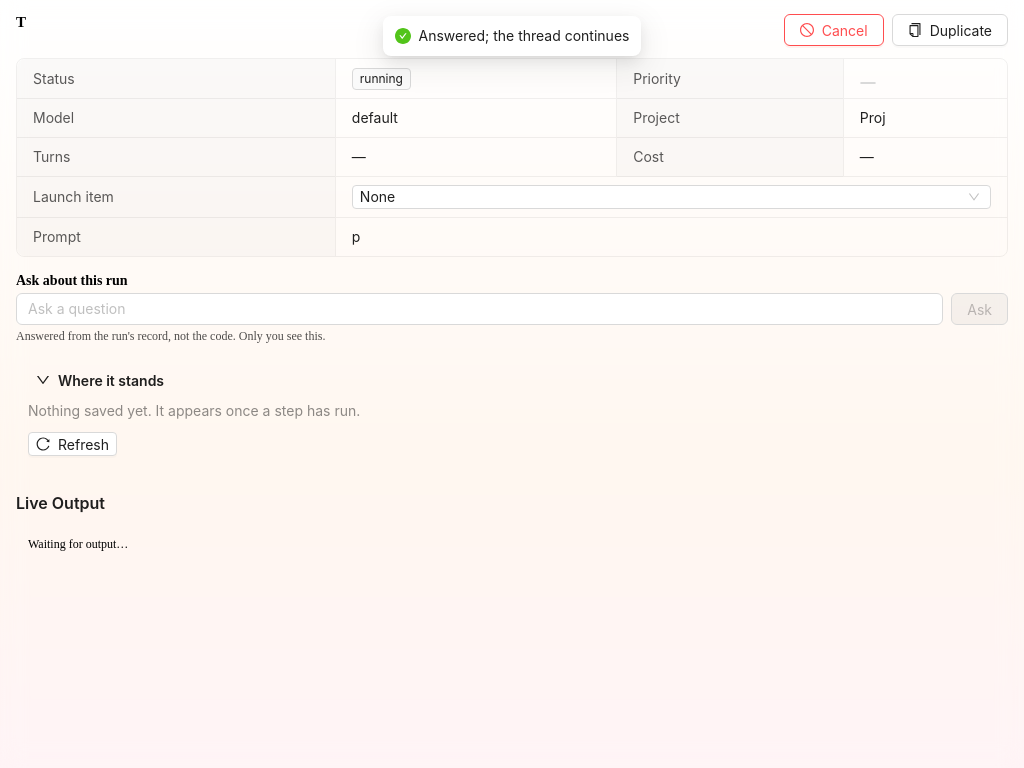
Test: TaskDetail: launch item and risk › lists open and started items plus None, and PATCHes the link
Press the mouse on the element showing "None": (671, 197) [352, 185, 991, 209]
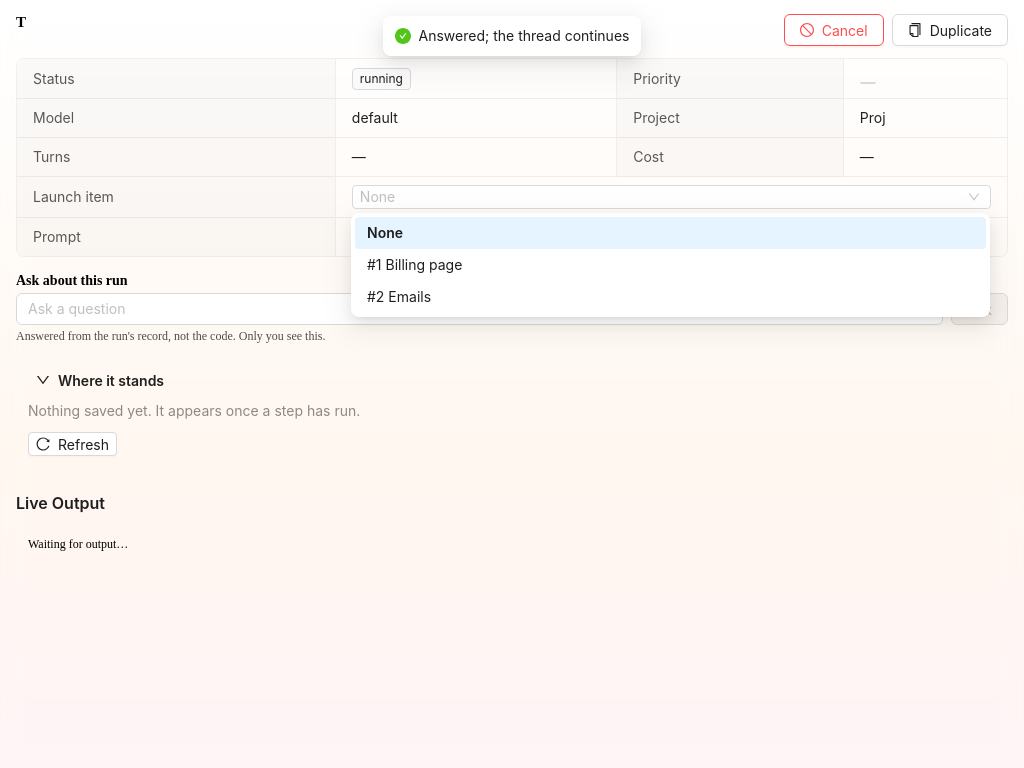
Click the element showing "#2 Emails": (399, 296) [367, 288, 431, 305]
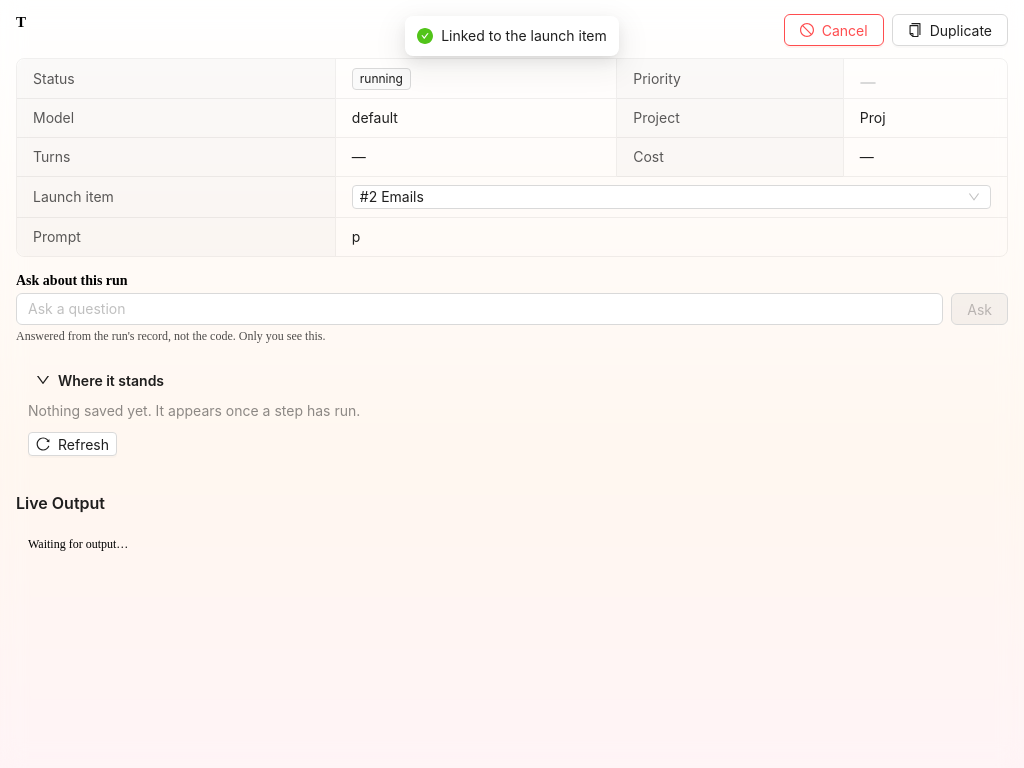
Result: the element with test id "task-launch-item" reads "#2 Emails" at [360, 188, 424, 205]
